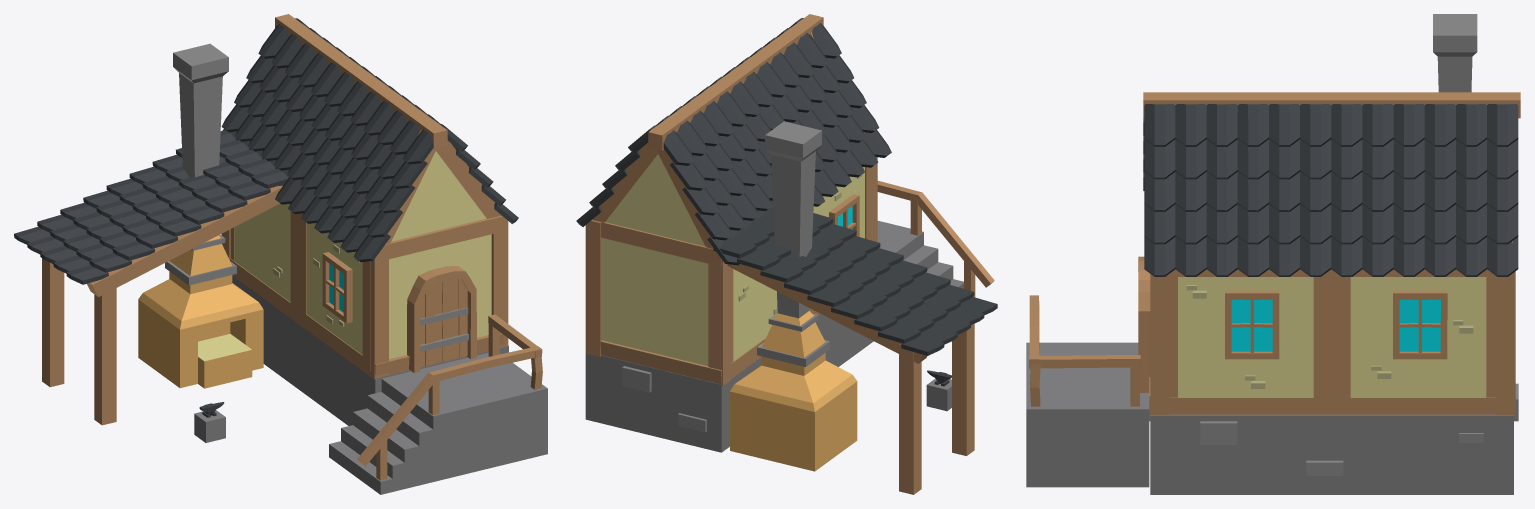
Rendered from Herreria.fbx.
The picture shows the model from 3 angles, left to right: view 1: azimuth 30°, elevation 25°; view 2: azimuth 150°, elevation 25°; view 3: azimuth 270°, elevation 25°; orthographic projection. The views are drawn at different scales.
Visible parts, largest first — view 1: Techo, Casa, Fragua, BasePiedra.002, BasePiedra.001, Puerta, PasaManos, Ventana.011, Cube.006; view 2: Techo, Casa, Fragua, BasePiedra.001, PasaManos, BasePiedra.002, Ventana.011, Cube.006; view 3: Techo, Casa, BasePiedra.001, BasePiedra.002, Ventana.003, Ventana.001, Fragua, PasaManos, Puerta.
Part boxes in pixels (box(x1,y1,x2,y2)): Techo: box(14, 18, 518, 284); Casa: box(42, 14, 508, 425); Fragua: box(138, 43, 263, 388); BasePiedra.002: box(329, 352, 547, 494); BasePiedra.001: box(232, 276, 508, 425); Puerta: box(407, 266, 476, 372); PasaManos: box(357, 314, 542, 480); Ventana.011: box(322, 252, 352, 323); Cube.006: box(194, 410, 225, 442); Techo: box(576, 18, 997, 355); Casa: box(585, 14, 974, 494); Fragua: box(730, 121, 857, 471); BasePiedra.001: box(585, 314, 873, 452); PasaManos: box(877, 180, 994, 297); BasePiedra.002: box(877, 220, 963, 288); Ventana.011: box(829, 194, 859, 236); Cube.006: box(926, 378, 951, 411); Techo: box(1143, 104, 1518, 276); Casa: box(1143, 92, 1520, 416); BasePiedra.001: box(1149, 383, 1518, 494); BasePiedra.002: box(1026, 342, 1149, 487); Ventana.003: box(1393, 290, 1447, 359); Ventana.001: box(1225, 290, 1279, 359); Fragua: box(1433, 14, 1477, 92); PasaManos: box(1029, 295, 1140, 406); Puerta: box(1138, 256, 1150, 392).
Bounding box in the file's own units: 8.54 × 7.03 × 8.61.
